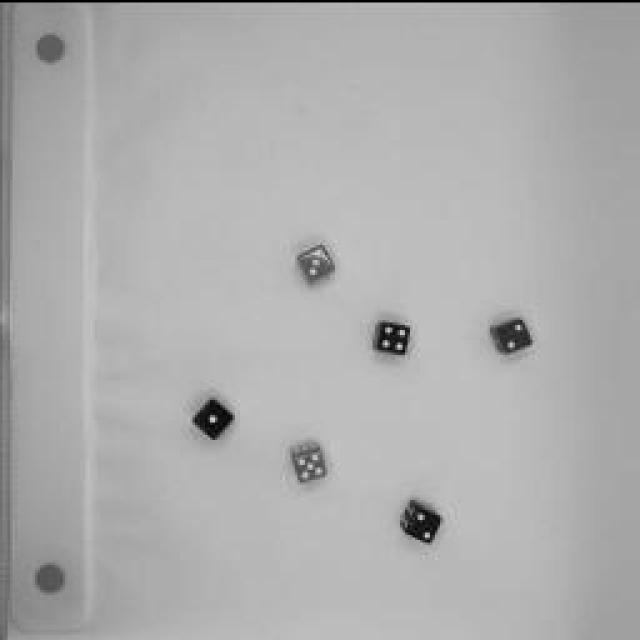dice_1: (188, 385, 238, 440)
dice_2: (485, 308, 540, 358), (398, 495, 448, 545)
dice_3: (292, 238, 340, 288)
dice_4: (370, 315, 412, 355)
dice_5: (290, 436, 330, 484)
